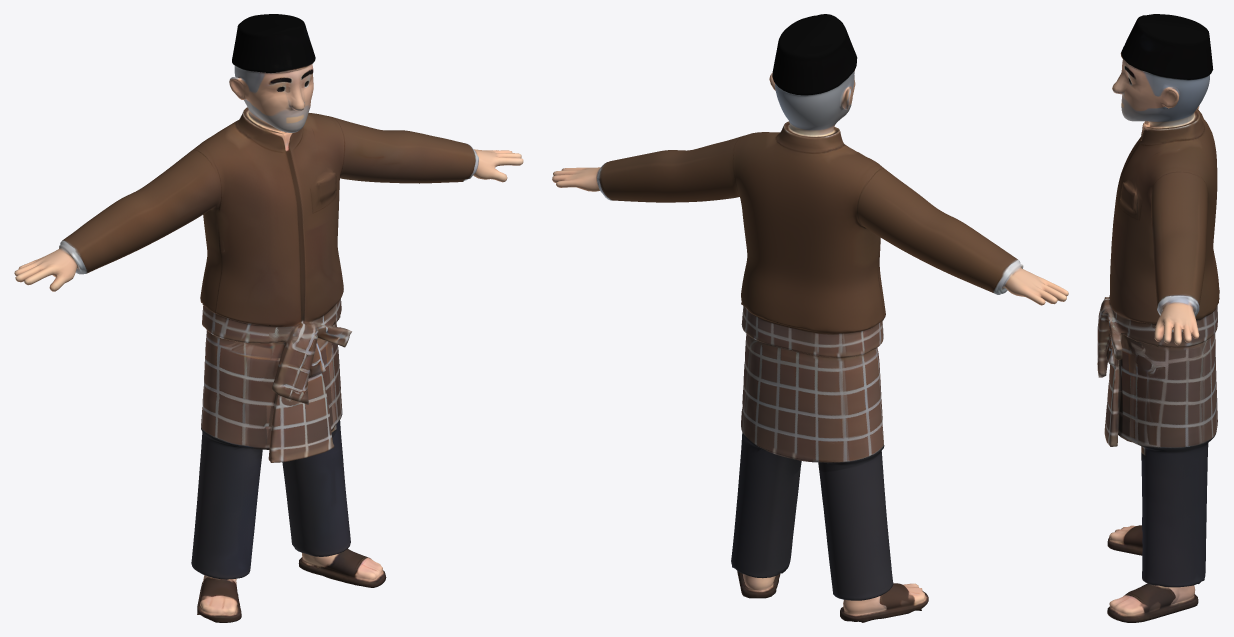
The model's file is aceng.glb.
3 views of the same model, side by side, from view 1: azimuth 30°, elevation 25°; view 2: azimuth 150°, elevation 25°; view 3: azimuth 270°, elevation 25° (orthographic). The views are drawn at different scales.
Parts seen in each view (by area): view 1: model; view 2: model; view 3: model.
Part boxes in pixels (bbox=[...]): model: bbox=[14, 14, 523, 622]; model: bbox=[552, 14, 1068, 622]; model: bbox=[1097, 14, 1219, 622].
Bounding box in the file's own units: 1.63 × 1.75 × 0.3453.
Materials: 1 (1 with a texture image).
